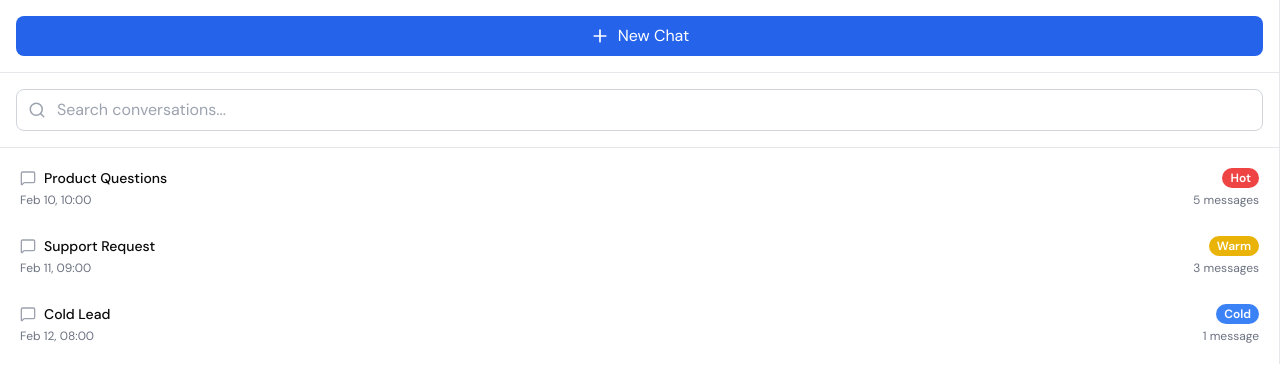
Test case: ConversationSidebar › filters conversations by search query
Type "Product" into the field with placeholder "Search conversations..." at (640, 110), box 16,89 -> 1263,131
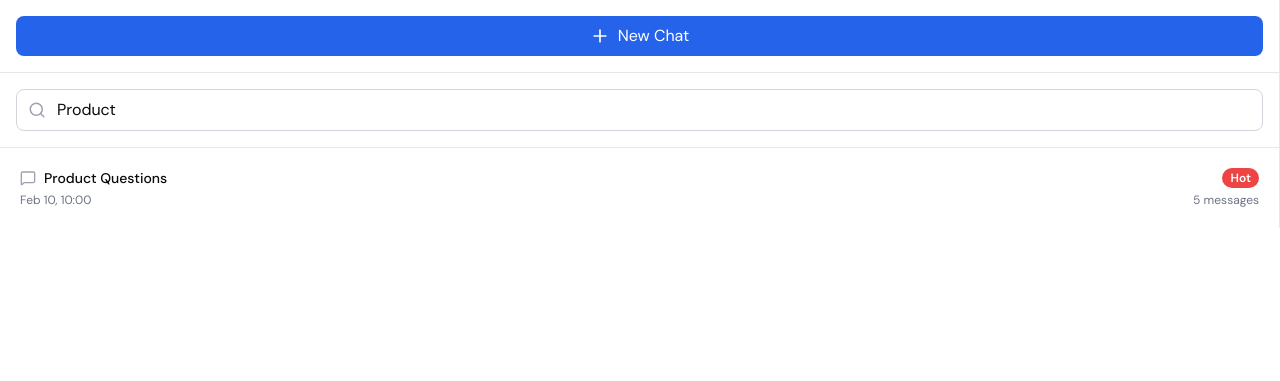
Check: the text "Product Questions" is shown, box 44,168 -> 167,188
Check: the button "Support Request" is gone
